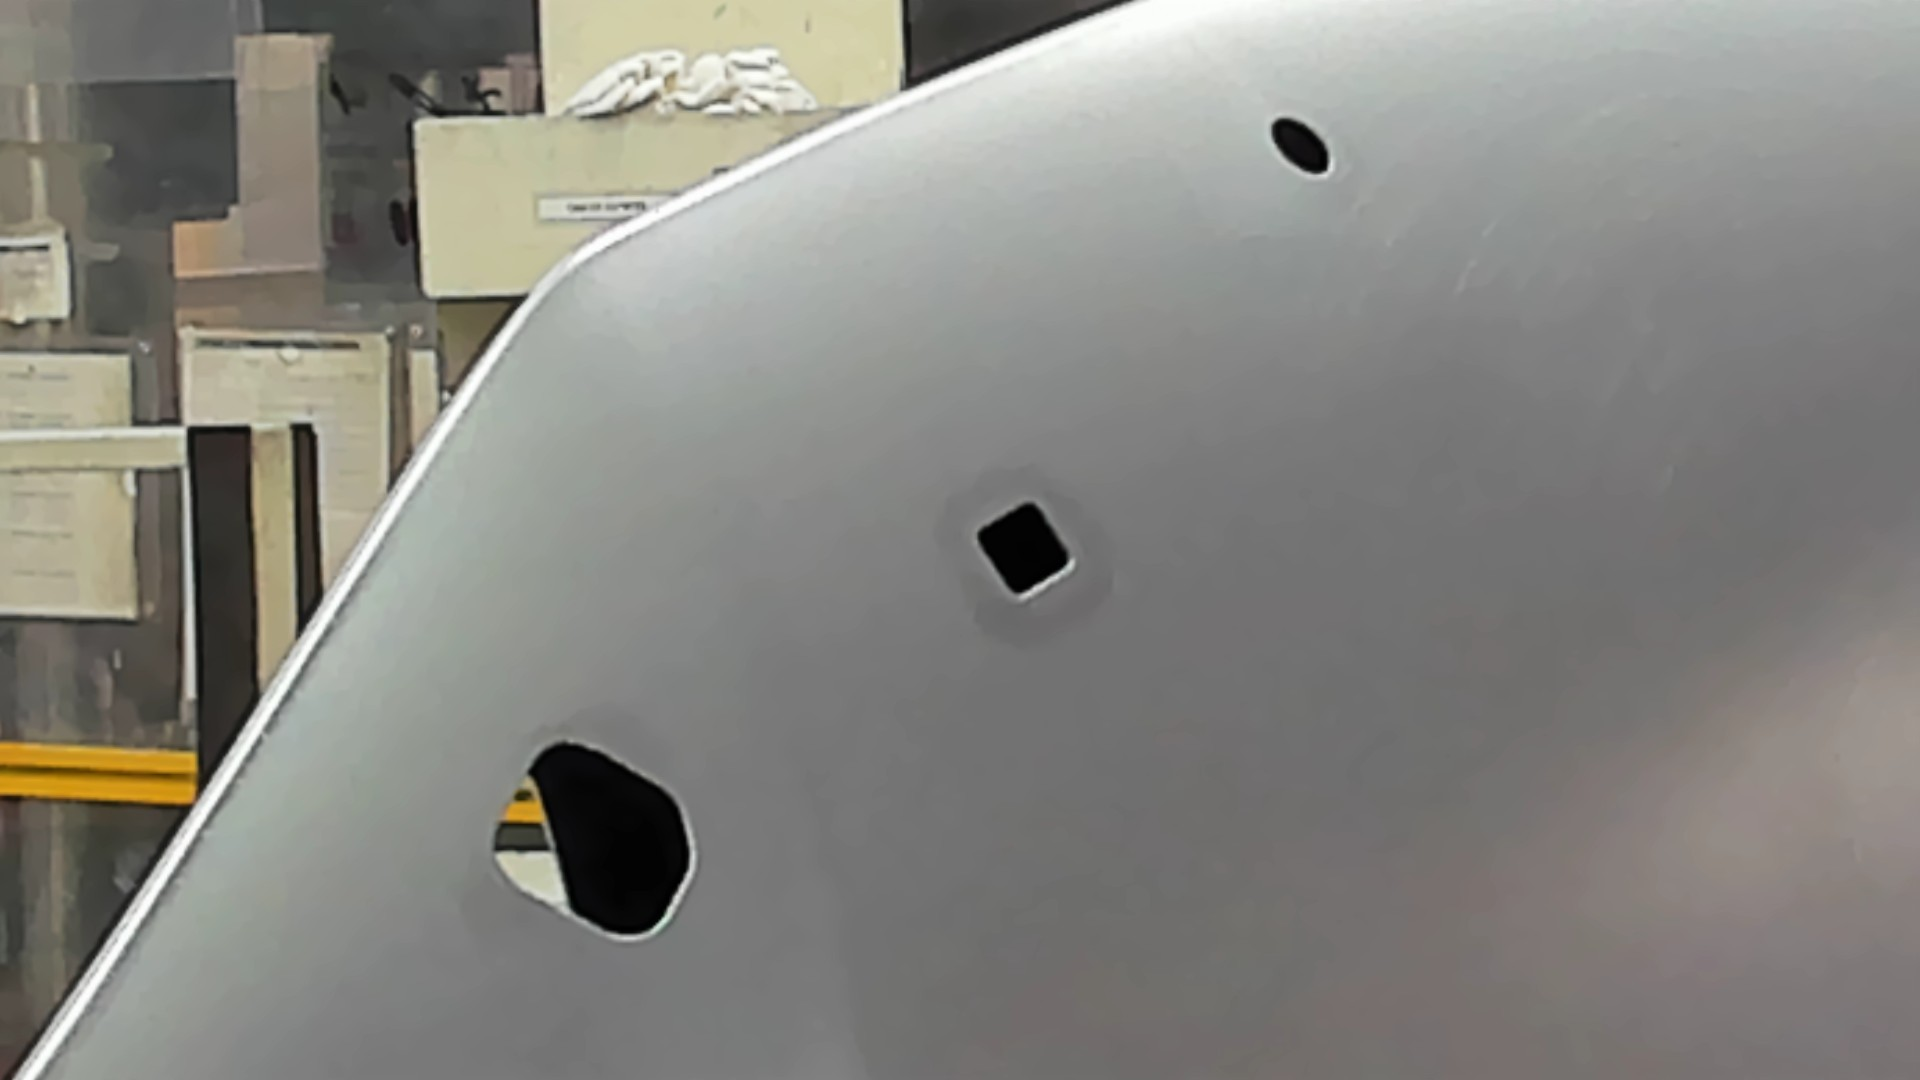chico: (1265, 113, 1333, 183)
grande: (483, 735, 702, 956)
mediano: (968, 491, 1083, 607)
